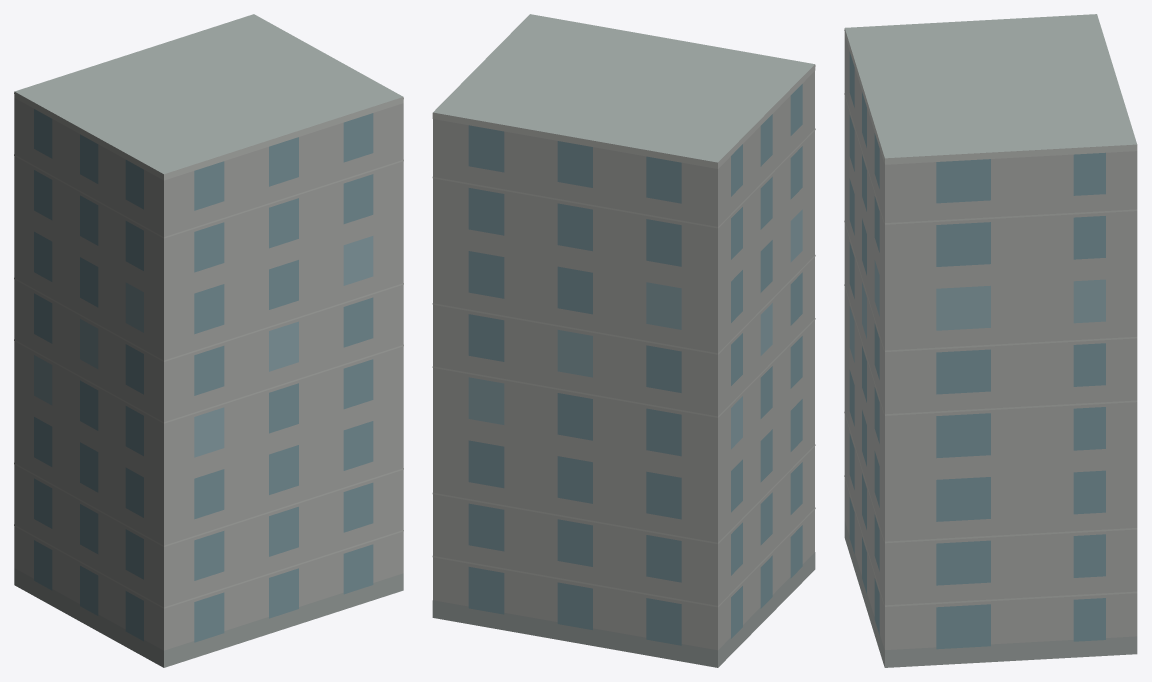
The model's file is survey-upis-32925941.glb.
The picture shows the model from 3 angles, left to right: view 1: azimuth 30°, elevation 25°; view 2: azimuth 150°, elevation 25°; view 3: azimuth 270°, elevation 25°; orthographic projection. The views are drawn at different scales.
Parts seen in each view (by area): view 1: survey-upis-32925941.tmp; view 2: survey-upis-32925941.tmp; view 3: survey-upis-32925941.tmp.
Boxes of the visible parts, x1,y1,x2,y2 form: survey-upis-32925941.tmp: (14,14,403,667); survey-upis-32925941.tmp: (432,14,815,667); survey-upis-32925941.tmp: (844,14,1137,667).
Bounding box in the file's own units: 11.63 × 19.1 × 9.97.
